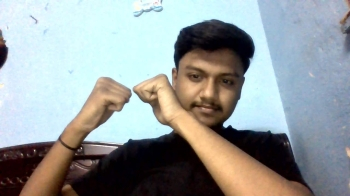hand: (77, 76, 133, 134), (132, 73, 184, 126)
